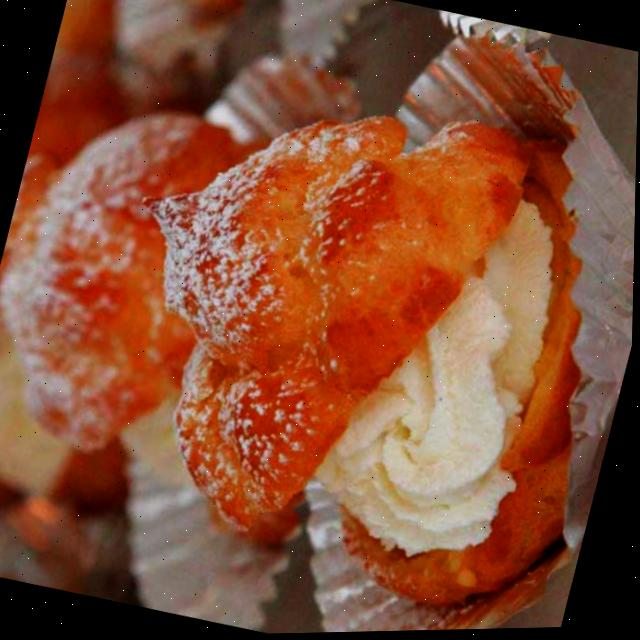三明治: (48, 2, 640, 639)
